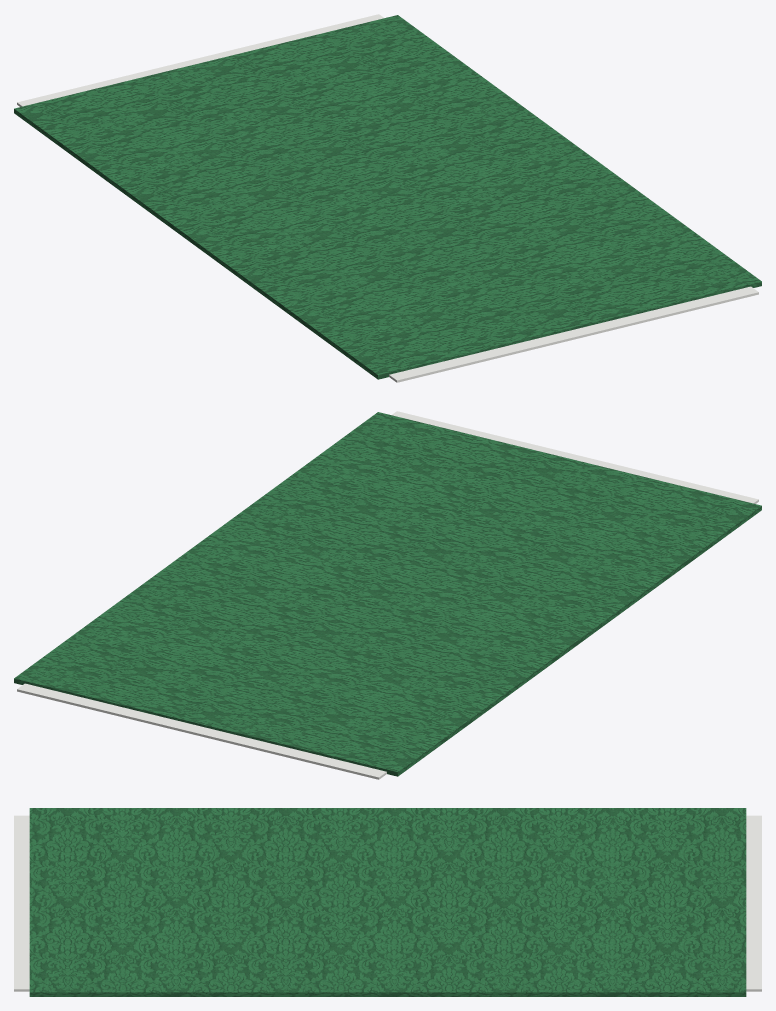
File: prayer_rug_green.glb
The picture shows the model from 3 angles, top to bottom: view 1: azimuth 30°, elevation 25°; view 2: azimuth 150°, elevation 25°; view 3: azimuth 270°, elevation 25°; orthographic projection.
Parts seen in each view (by area): view 1: prayer_rug_green; view 2: prayer_rug_green; view 3: prayer_rug_green.
Part boxes in pixels (x1,y1,x2,y2): prayer_rug_green: [14, 14, 761, 382]; prayer_rug_green: [14, 411, 761, 779]; prayer_rug_green: [14, 808, 761, 996].
Size of the model in its own units: 0.7 by 0.008 by 1.2.
2 materials, 1 textured.
